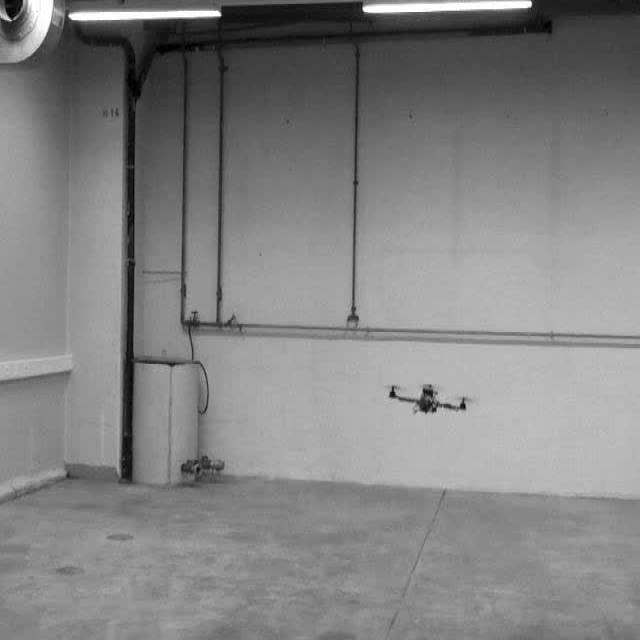drone: (382, 381, 476, 419)
